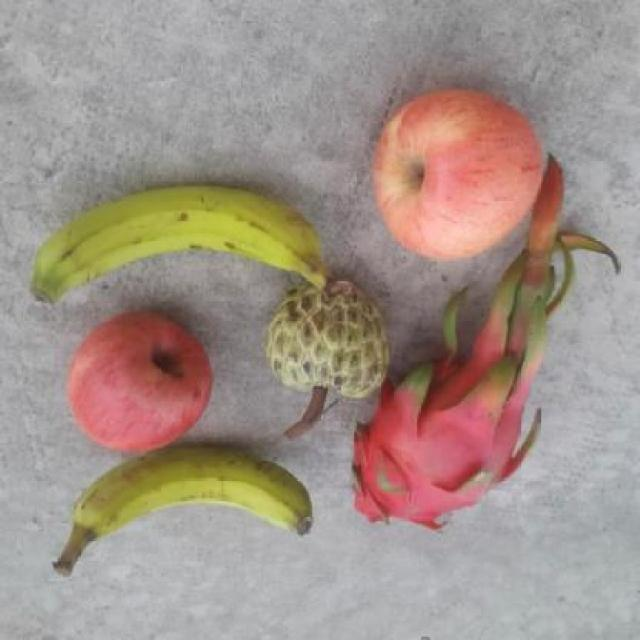apple: (372, 75, 548, 260), (62, 308, 215, 457)
banana: (26, 185, 352, 308), (55, 442, 317, 578)
dragon fruit: (350, 342, 538, 529)
sugar apple: (264, 274, 391, 441)
